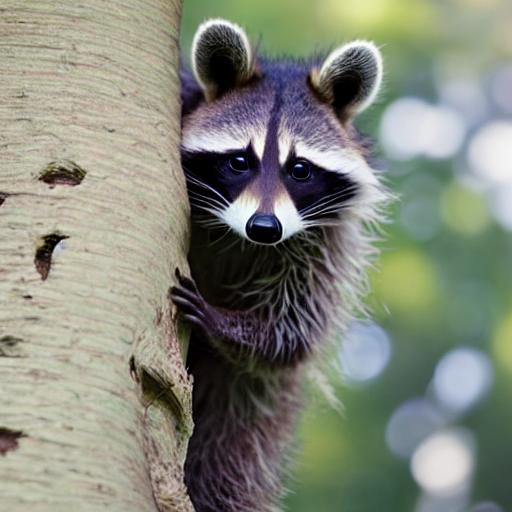raccoon: (180, 10, 406, 512)
